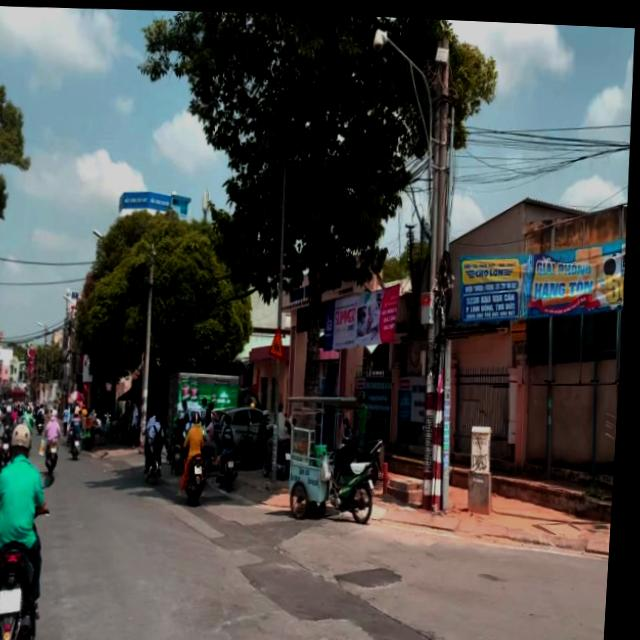Tre em: (271, 321, 291, 358)
